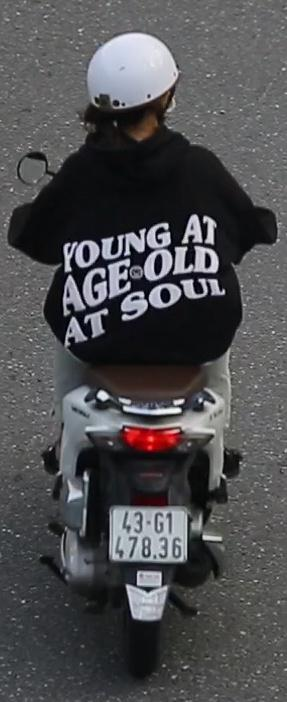LP: (107, 500, 194, 567)
helmet: (78, 25, 183, 149)
